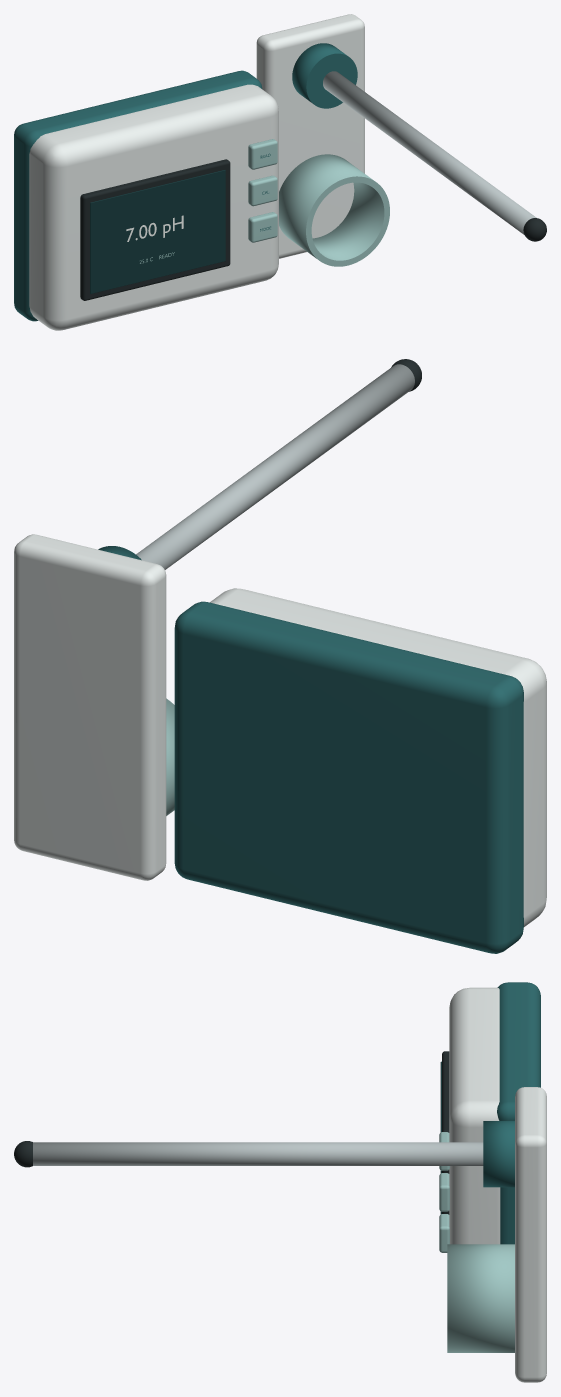
3 views of the same model, one above another, from view 1: azimuth 30°, elevation 25°; view 2: azimuth 150°, elevation 25°; view 3: azimuth 270°, elevation 25° (orthographic). The views are drawn at different scales.
Visible parts, largest first — view 1: meter_housing, screen, stand_foot, rinse_holder, meter_lower, support_column, screen_bezel, stand_socket, meter_key.001, meter_key, meter_key.002, column_cap; view 2: meter_lower, stand_foot, meter_housing, support_column, rinse_holder; view 3: meter_housing, support_column, stand_foot, rinse_holder, meter_lower, stand_socket, screen_bezel.
Part boxes in pixels (x1,y1,x2,y2): meter_housing: (29, 84, 278, 330); screen: (90, 170, 225, 293); stand_foot: (256, 14, 364, 258); rinse_holder: (279, 154, 389, 266); meter_lower: (14, 70, 262, 321); support_column: (323, 71, 536, 234); screen_bezel: (80, 159, 230, 300); stand_socket: (292, 43, 357, 108); meter_key.001: (248, 175, 277, 206); meter_key: (248, 139, 277, 169); meter_key.002: (248, 212, 277, 242); column_cap: (523, 218, 546, 241); meter_lower: (174, 601, 523, 953); stand_foot: (14, 534, 166, 880); meter_housing: (210, 588, 546, 926); support_column: (136, 364, 414, 569); rinse_holder: (166, 698, 174, 815); meter_housing: (449, 987, 500, 1244); support_column: (33, 1142, 483, 1165); stand_foot: (515, 1087, 546, 1382); rinse_holder: (447, 1244, 514, 1352); meter_lower: (497, 982, 540, 1244); stand_socket: (483, 1121, 514, 1187); screen_bezel: (442, 1051, 449, 1214).
Bounding box in the file's own units: 0.3385 × 0.205 × 0.401.
